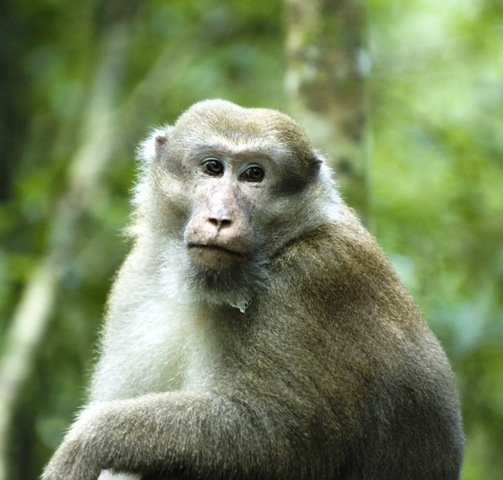monkey: (40, 95, 469, 480)
